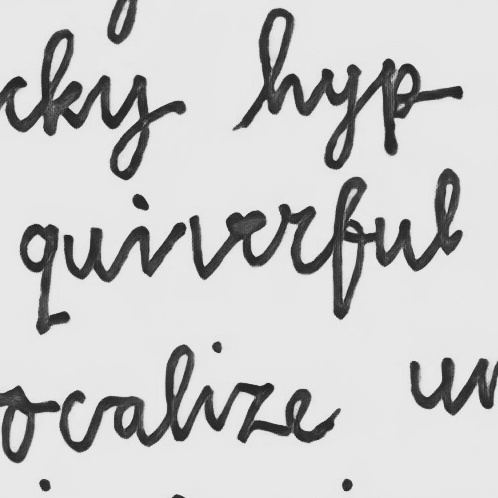e: (241, 208, 269, 269)
f: (328, 173, 368, 323)
i: (125, 191, 156, 278)
l: (431, 166, 465, 257)
q: (16, 220, 60, 336)
r: (271, 202, 320, 276)
u: (62, 225, 106, 282), (372, 214, 415, 271)
v: (185, 210, 240, 283)
